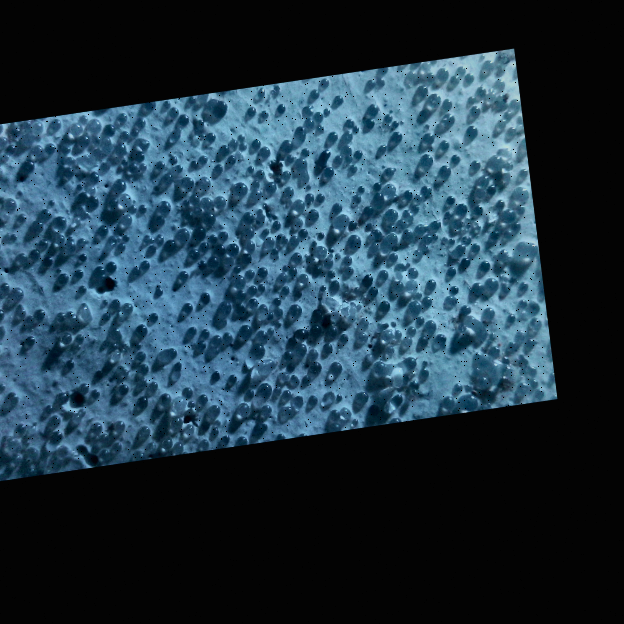GrassBeadSeg: (5, 103, 431, 448), (0, 122, 441, 416), (49, 137, 544, 398), (76, 112, 455, 452), (30, 120, 463, 407), (112, 85, 487, 394), (37, 149, 461, 403), (160, 167, 529, 445), (65, 71, 467, 318), (45, 233, 557, 412), (51, 134, 475, 339), (144, 101, 487, 343), (7, 212, 430, 401), (154, 64, 495, 290), (90, 82, 329, 398), (160, 74, 471, 314), (21, 158, 418, 343), (99, 113, 311, 459), (158, 157, 526, 356), (100, 160, 463, 356), (110, 276, 499, 450), (307, 78, 481, 420), (195, 84, 428, 338), (26, 159, 342, 344), (131, 127, 458, 305), (122, 103, 370, 335), (44, 142, 273, 392), (52, 120, 308, 339), (120, 129, 384, 340), (111, 242, 491, 388), (132, 127, 393, 339), (66, 149, 248, 445), (163, 122, 456, 305), (72, 127, 431, 276), (198, 97, 453, 303), (93, 264, 463, 403), (134, 116, 310, 405), (294, 124, 534, 335), (109, 163, 451, 306), (321, 64, 466, 401), (86, 117, 379, 275), (93, 281, 484, 398), (142, 233, 402, 403), (209, 117, 355, 419), (133, 129, 404, 291), (179, 129, 417, 310), (234, 287, 498, 442), (119, 163, 357, 334), (316, 190, 495, 408), (215, 129, 379, 365), (117, 161, 452, 274), (308, 204, 528, 371), (103, 100, 215, 428), (291, 124, 478, 315), (63, 104, 312, 245), (68, 122, 222, 345), (96, 105, 249, 322), (108, 234, 327, 379), (105, 112, 303, 272), (293, 80, 505, 229), (138, 183, 496, 271), (114, 142, 335, 284), (136, 234, 318, 405), (180, 93, 344, 280), (355, 90, 487, 322), (171, 295, 432, 411), (61, 166, 233, 342), (78, 58, 495, 129), (59, 143, 525, 203), (99, 136, 288, 283), (49, 117, 314, 221), (157, 116, 450, 210), (152, 214, 322, 372), (204, 77, 329, 287), (148, 244, 326, 391), (110, 76, 385, 171), (199, 169, 349, 337), (235, 116, 319, 415), (251, 285, 537, 371), (104, 122, 208, 349), (46, 128, 352, 204), (174, 102, 339, 242), (30, 120, 315, 200), (77, 298, 333, 387), (279, 138, 376, 370), (0, 182, 85, 435), (86, 87, 265, 206), (38, 207, 164, 373), (181, 208, 292, 396), (238, 207, 398, 335), (77, 275, 245, 393), (262, 235, 422, 358), (367, 66, 450, 294), (76, 212, 215, 348), (5, 205, 217, 294), (309, 112, 392, 333), (371, 117, 443, 370), (161, 171, 352, 264), (88, 194, 266, 291), (129, 255, 218, 448), (149, 272, 496, 320), (407, 53, 506, 220), (87, 91, 256, 181), (194, 251, 341, 348), (75, 98, 228, 187), (181, 177, 362, 249), (120, 105, 180, 312), (158, 175, 211, 403), (179, 175, 253, 337), (402, 74, 480, 216), (177, 212, 350, 276), (331, 130, 391, 311), (118, 327, 273, 395), (306, 347, 478, 407), (123, 111, 227, 207), (109, 94, 196, 206), (168, 111, 330, 171), (176, 105, 435, 142), (348, 113, 427, 232), (163, 191, 323, 249), (97, 346, 178, 457), (284, 205, 398, 274), (32, 135, 129, 214), (62, 166, 490, 183), (0, 306, 45, 458), (258, 154, 343, 234), (224, 256, 302, 339), (285, 143, 387, 202), (259, 371, 386, 414), (363, 193, 423, 283), (244, 226, 327, 290), (279, 103, 303, 314), (75, 152, 147, 222), (171, 160, 223, 249), (139, 99, 204, 169), (357, 183, 388, 328), (398, 222, 481, 276), (335, 154, 396, 225), (391, 61, 474, 111), (116, 110, 375, 126), (327, 130, 343, 373), (328, 304, 428, 342), (55, 297, 110, 365), (0, 374, 38, 471), (0, 211, 40, 299), (316, 122, 365, 193), (467, 313, 541, 360), (240, 108, 291, 176), (291, 373, 359, 423), (293, 329, 435, 352), (367, 358, 428, 411), (201, 387, 255, 445), (113, 341, 183, 381), (226, 217, 303, 253), (330, 268, 422, 298), (492, 280, 529, 353), (405, 339, 480, 375), (365, 349, 427, 392), (284, 239, 336, 289), (255, 246, 282, 341), (94, 428, 175, 459), (385, 166, 418, 242), (341, 120, 399, 159), (245, 178, 267, 278), (192, 189, 235, 240), (340, 302, 396, 341), (156, 233, 218, 268), (237, 139, 277, 192), (428, 77, 505, 104), (329, 390, 378, 432), (494, 339, 536, 388), (483, 220, 521, 269), (0, 280, 34, 334), (254, 385, 294, 429), (175, 125, 197, 203), (155, 221, 200, 259), (456, 201, 514, 230), (0, 121, 32, 173), (57, 268, 88, 321), (49, 358, 74, 423), (480, 247, 516, 291), (296, 231, 325, 285), (422, 232, 457, 274), (52, 407, 94, 440), (275, 102, 379, 115), (187, 392, 220, 432), (390, 108, 430, 141), (215, 239, 255, 271), (448, 234, 481, 272), (212, 369, 255, 398), (347, 154, 381, 190), (466, 351, 498, 389), (238, 132, 264, 177), (215, 162, 248, 196), (492, 110, 512, 166), (525, 300, 540, 374), (283, 374, 318, 405), (12, 120, 43, 155), (64, 235, 87, 282), (281, 173, 325, 197), (91, 418, 150, 435), (34, 220, 72, 246), (188, 151, 241, 169), (495, 186, 529, 214), (274, 250, 289, 313), (222, 230, 251, 262), (217, 142, 248, 171), (471, 228, 512, 248), (3, 188, 27, 222), (218, 297, 268, 312), (251, 342, 292, 359), (466, 94, 519, 107), (386, 328, 412, 354), (237, 284, 282, 298), (371, 219, 403, 238), (31, 238, 53, 265), (172, 423, 194, 450), (121, 191, 147, 213), (506, 97, 519, 134), (291, 198, 314, 217), (525, 316, 538, 348), (320, 148, 334, 177), (389, 223, 412, 238), (359, 330, 402, 338), (411, 310, 427, 330), (226, 241, 248, 255), (0, 135, 17, 152), (218, 300, 244, 311), (199, 200, 209, 224), (191, 200, 212, 208), (399, 219, 406, 235), (209, 257, 219, 267), (190, 193, 200, 201), (297, 341, 307, 349), (202, 196, 213, 202), (425, 318, 434, 322), (418, 300, 421, 310), (293, 342, 297, 349), (435, 320, 438, 328), (300, 350, 307, 353), (372, 248, 375, 250)
